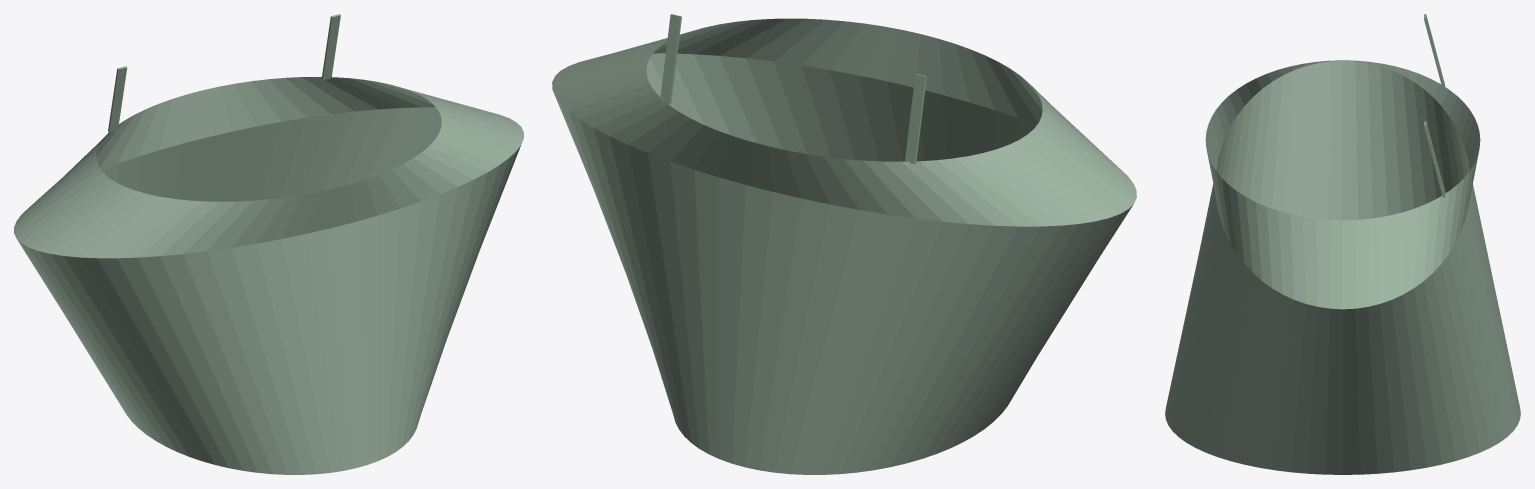
The model's file is sav4-tank-sage.glb.
3 renders of one model, left to right at view 1: azimuth 30°, elevation 25°; view 2: azimuth 150°, elevation 25°; view 3: azimuth 270°, elevation 25°, orthographic. The views are drawn at different scales.
Visible parts, largest first — view 1: Tank torso, Measured shoulder strap, Measured shoulder strap.001; view 2: Tank torso, Measured shoulder strap.001, Measured shoulder strap; view 3: Tank torso.
Part boxes in pixels (x1,y1,x2,y2): Tank torso: [14, 77, 523, 474]; Measured shoulder strap: [108, 66, 127, 132]; Measured shoulder strap.001: [321, 14, 340, 80]; Tank torso: [552, 18, 1136, 474]; Measured shoulder strap.001: [660, 14, 681, 104]; Measured shoulder strap: [905, 73, 926, 164]; Tank torso: [1165, 60, 1520, 474].
Size of the model in its own units: 0.7233 by 0.4665 by 0.4377.
